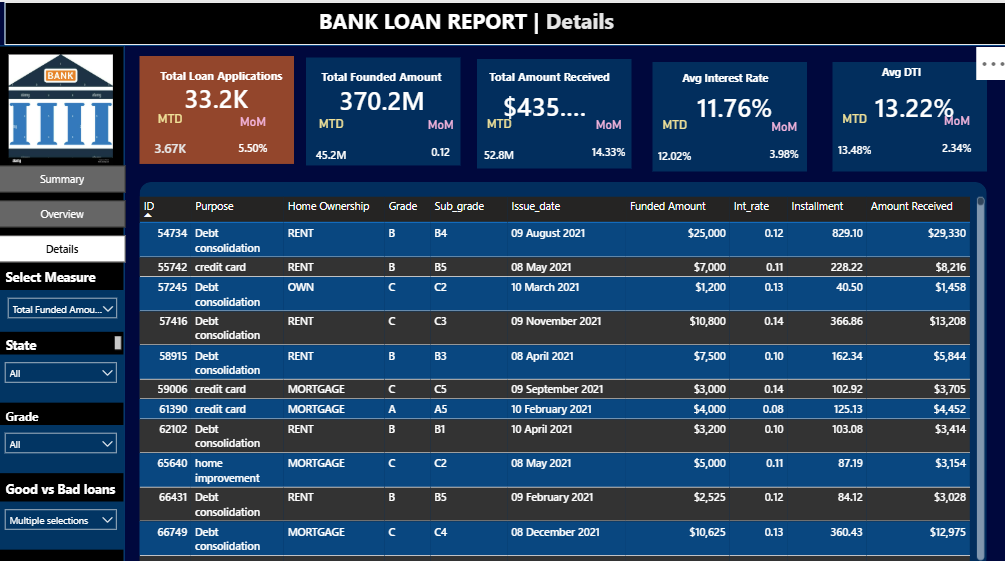

What the dashboard file says about the page in this screenshot:
{"tool":"powerbi","page":{"name":"Details","canvas":[1280,720],"ordinal":2},"visuals":[{"type":"shape","box":[0,54.8,160.6,665.2],"z":0},{"type":"shape","box":[179.8,68,194.6,136.1],"z":0,"group":"g12"},{"type":"cardVisual","fields":{"Data":["bank_loan_data.Total Funded Amount"]},"box":[395.8,69.9,181.9,104.1],"z":0,"group":"g14"},{"type":"cardVisual","fields":{"Data":["bank_loan_data.Total Loan Applications"]},"box":[181,70.1,190.8,99],"z":0,"group":"g11"},{"type":"shape","box":[825.8,75.6,194.6,138],"z":0,"group":"g2"},{"type":"shape","box":[1052.6,75.6,194.6,138],"z":0,"group":"g1"},{"type":"textbox","box":[1052.1,73.7,173.5,70.2],"z":1000,"group":"g16"},{"type":"textbox","box":[186.9,78,190.8,66],"z":1000,"group":"g9"},{"type":"textbox","box":[602.2,79.4,186.6,70.2],"z":1000,"group":"g13"},{"type":"textbox","box":[390.5,79.6,186.6,70.2],"z":1000,"group":"g7"},{"type":"textbox","box":[823.3,81.3,186.6,70.2],"z":1000,"group":"g17"},{"type":"cardVisual","title":"MTD","fields":{"Data":["bank_loan_data.MTD dti"]},"box":[1029.9,137.4,101.1,81.3],"z":1000,"group":"g3"},{"type":"cardVisual","title":"MTD","fields":{"Data":["bank_loan_data.MTD Loan Applications"]},"box":[162.5,137.9,111.1,76.4],"z":1000,"group":"g8"},{"type":"cardVisual","title":"MTD","fields":{"Data":["bank_loan_data.MTD Amount Received"]},"box":[578.3,143.1,108.7,81.3],"z":1000,"group":"g4"},{"type":"cardVisual","title":"MTD","fields":{"Data":["bank_loan_data.MTD Founded Ammount"]},"box":[366.6,143.3,108.7,81.3],"z":1000,"group":"g5"},{"type":"cardVisual","title":"MTD","fields":{"Data":["bank_loan_data.MTD Int Rate"]},"box":[799.4,145,108.7,81.3],"z":1000,"group":"g6"},{"type":"shape","box":[180,226.1,1067.6,487.7],"z":1000},{"type":"textbox","box":[4.8,330.8,186.1,31.8],"z":1000,"group":"g24"},{"type":"textbox","box":[6.4,415.1,155.9,28.6],"z":1000,"group":"g22"},{"type":"textbox","box":[4.8,505.8,155.6,35.9],"z":1000,"group":"g21"},{"type":"textbox","box":[9.5,563.1,181,70.2],"z":1000,"group":"g20"},{"type":"textbox","box":[4.8,598.1,157.2,35.1],"z":1000,"group":"g23"},{"type":"group","id":"g1","title":"Group 10","box":[1052.6,75.6,194.6,138],"z":2000},{"type":"cardVisual","title":"MoM","fields":{"Data":["bank_loan_data.MoM dti"]},"box":[1139.3,139.7,139.5,71.1],"z":2000,"group":"g3"},{"type":"cardVisual","title":"MoM","fields":{"Data":["bank_loan_data.MoM loan Applications"]},"box":[244,141.3,157.4,67.8],"z":2000,"group":"g11"},{"type":"cardVisual","title":"MoM","fields":{"Data":["bank_loan_data.MoM Amount Received"]},"box":[696,145.4,150.1,71.1],"z":2000,"group":"g4"},{"type":"cardVisual","title":"MoM","fields":{"Data":["bank_loan_data.MoM Total Founded Amount"]},"box":[484.3,145.6,150.1,71.1],"z":2000,"group":"g5"},{"type":"cardVisual","title":"MoM","fields":{"Data":["bank_loan_data.MoM Int Rate"]},"box":[917.1,147.3,150.1,71.1],"z":2000,"group":"g6"},{"type":"group","id":"g2","title":"Group 10","box":[825.8,75.6,194.6,138],"z":3000},{"type":"group","id":"g3","title":"Group 6","box":[1029.9,137.4,248.9,81.3],"z":3001,"group":"g16"},{"type":"group","id":"g4","title":"Group 6","box":[578.3,143.1,267.8,81.3],"z":3001,"group":"g13"},{"type":"group","id":"g5","title":"Group 6","box":[366.6,143.3,267.8,81.3],"z":3001,"group":"g7"},{"type":"group","id":"g6","title":"Group 6","box":[799.4,145,267.8,81.3],"z":3001,"group":"g17"},{"type":"group","id":"g7","title":"Group 7","box":[366.6,79.6,267.8,145],"z":3002,"group":"g14"},{"type":"shape","box":[604.7,71.8,194.6,138],"z":4000},{"type":"cardVisual","fields":{"Data":["bank_loan_data.Total Amount Received"]},"box":[608.5,77.5,181.4,103.9],"z":4000,"group":"g19"},{"type":"shape","box":[9.4,0,1269.9,55],"z":5000},{"type":"group","id":"g8","title":"Group 1","box":[162.5,70.1,238.9,144.2],"z":5003,"group":"g9"},{"type":"group","id":"g9","title":"Group 3","box":[162.5,70.1,238.3,144],"z":5004,"group":"g12"},{"type":"group","id":"g10","title":"Group 2","box":[181,70.1,220.4,139],"z":5004,"group":"g8"},{"type":"group","id":"g11","title":"Group 4","box":[181,70.1,220.4,139],"z":5005,"group":"g10"},{"type":"shape","box":[389.3,69.9,194.6,136.1],"z":6000},{"type":"textbox","box":[400.6,0,629.3,94.5],"z":7000},{"type":"group","id":"g12","title":"Group 5","box":[162.5,68,238.1,145.5],"z":8000},{"type":"group","id":"g13","title":"Group 7","box":[578.3,79.4,268.3,145.5],"z":8000,"group":"g19"},{"type":"group","id":"g14","title":"Group 8","box":[366.6,69.9,266.5,155],"z":9000},{"type":"group","id":"g15","title":"Group 7","box":[1029.9,73.7,249.5,145.5],"z":10000},{"type":"cardVisual","fields":{"Data":["bank_loan_data.Average Int Rate"]},"box":[839.8,84.8,181.4,90.7],"z":10000,"group":"g2"},{"type":"cardVisual","fields":{"Data":["bank_loan_data.AVG DTI"]},"box":[1066.6,84.8,181.4,90.7],"z":10000,"group":"g1"},{"type":"group","id":"g16","title":"Group 9","box":[1029.9,73.7,248.9,145],"z":10001,"group":"g15"},{"type":"group","id":"g17","title":"Group 9","box":[799.4,81.3,267.8,145],"z":10001,"group":"g18"},{"type":"group","id":"g18","title":"Group 7","box":[799.4,81.3,268.3,145.5],"z":11000},{"type":"group","id":"g19","title":"Group 11","box":[578.3,77.5,268.3,147.4],"z":12000},{"type":"slicer","fields":{"Values":["bank_loan_data.address_state"]},"box":[0,443.8,160.7,60.4],"z":13000},{"type":"group","id":"g20","title":"Group 8","box":[9.5,563.1,181.3,70],"z":14000},{"type":"group","id":"g21","title":"Group 8","box":[4.8,505.8,155.9,35],"z":15000},{"type":"slicer","fields":{"Values":["bank_loan_data.grade"]},"box":[0,532.9,160.7,60.4],"z":16000},{"type":"group","id":"g22","title":"Group 8","box":[6.4,415.1,155.9,28.6],"z":17000},{"type":"group","id":"g23","title":"Group 8","box":[4.8,598.1,157.5,35],"z":18000},{"type":"slicer","fields":{"Values":["bank_loan_data.Good vs Bad Loans"]},"box":[0,629.9,160.7,60.4],"z":19000},{"type":"slicer","fields":{"Values":["Select Measure.Select Measure"]},"box":[3.2,362.7,157.5,52.5],"z":20000},{"type":"group","id":"g24","title":"Group 8","box":[4.8,330.8,186.1,31.8],"z":21000},{"type":"tableEx","fields":{"Values":["bank_loan_data.id","bank_loan_data.purpose","bank_loan_data.home_ownership","bank_loan_data.grade","bank_loan_data.sub_grade","bank_loan_data.issue_date","bank_loan_data.Total Funded Amount","Avg(bank_loan_data.int_rate)","Sum(bank_loan_data.installment)","bank_loan_data.Total Amount Received"]},"box":[173.8,240.3,1074.7,468.2],"z":22000},{"type":"pageNavigator","box":[1.6,205.2,160.7,124.1],"z":22001},{"type":"image","box":[0,66.8,160.7,138.4],"z":22002}]}

Visuals, with their boxes in screenshot pixels (x1, y1, x2, y2), scaled from the page's 1280x720 canvas onto the 1005x561 screenshot:
shape: [x1=0, y1=43, x2=126, y2=560]
shape: [x1=141, y1=53, x2=294, y2=159]
cardVisual - bank_loan_data.Total Funded Amount: [x1=311, y1=54, x2=454, y2=136]
cardVisual - bank_loan_data.Total Loan Applications: [x1=142, y1=55, x2=292, y2=132]
shape: [x1=648, y1=59, x2=801, y2=166]
shape: [x1=826, y1=59, x2=979, y2=166]
textbox: [x1=826, y1=57, x2=962, y2=112]
textbox: [x1=147, y1=61, x2=297, y2=112]
textbox: [x1=473, y1=62, x2=619, y2=117]
textbox: [x1=307, y1=62, x2=453, y2=117]
textbox: [x1=646, y1=63, x2=793, y2=118]
"MTD" cardVisual: [x1=809, y1=107, x2=888, y2=170]
"MTD" cardVisual: [x1=128, y1=107, x2=215, y2=167]
"MTD" cardVisual: [x1=454, y1=111, x2=539, y2=175]
"MTD" cardVisual: [x1=288, y1=112, x2=373, y2=175]
"MTD" cardVisual: [x1=628, y1=113, x2=713, y2=176]
shape: [x1=141, y1=176, x2=980, y2=556]
textbox: [x1=4, y1=258, x2=150, y2=283]
textbox: [x1=5, y1=323, x2=127, y2=346]
textbox: [x1=4, y1=394, x2=126, y2=422]
textbox: [x1=7, y1=439, x2=150, y2=493]
textbox: [x1=4, y1=466, x2=127, y2=493]
"Group 10" group: [x1=826, y1=59, x2=979, y2=166]
"MoM" cardVisual: [x1=895, y1=109, x2=1004, y2=164]
"MoM" cardVisual: [x1=192, y1=110, x2=315, y2=163]
"MoM" cardVisual: [x1=546, y1=113, x2=664, y2=169]
"MoM" cardVisual: [x1=380, y1=113, x2=498, y2=169]
"MoM" cardVisual: [x1=720, y1=115, x2=838, y2=170]
"Group 10" group: [x1=648, y1=59, x2=801, y2=166]
"Group 6" group: [x1=809, y1=107, x2=1004, y2=170]
"Group 6" group: [x1=454, y1=111, x2=664, y2=175]
"Group 6" group: [x1=288, y1=112, x2=498, y2=175]
"Group 6" group: [x1=628, y1=113, x2=838, y2=176]
"Group 7" group: [x1=288, y1=62, x2=498, y2=175]
shape: [x1=475, y1=56, x2=628, y2=163]
cardVisual - bank_loan_data.Total Amount Received: [x1=478, y1=60, x2=620, y2=141]
shape: [x1=7, y1=0, x2=1004, y2=43]
"Group 1" group: [x1=128, y1=55, x2=315, y2=167]
"Group 3" group: [x1=128, y1=55, x2=315, y2=167]
"Group 2" group: [x1=142, y1=55, x2=315, y2=163]
"Group 4" group: [x1=142, y1=55, x2=315, y2=163]
shape: [x1=306, y1=54, x2=458, y2=161]
textbox: [x1=315, y1=0, x2=809, y2=74]
"Group 5" group: [x1=128, y1=53, x2=315, y2=166]
"Group 7" group: [x1=454, y1=62, x2=665, y2=175]
"Group 8" group: [x1=288, y1=54, x2=497, y2=175]
"Group 7" group: [x1=809, y1=57, x2=1004, y2=171]
cardVisual - bank_loan_data.Average Int Rate: [x1=659, y1=66, x2=802, y2=137]
cardVisual - bank_loan_data.AVG DTI: [x1=837, y1=66, x2=980, y2=137]
"Group 9" group: [x1=809, y1=57, x2=1004, y2=170]
"Group 9" group: [x1=628, y1=63, x2=838, y2=176]
"Group 7" group: [x1=628, y1=63, x2=838, y2=177]
"Group 11" group: [x1=454, y1=60, x2=665, y2=175]
slicer - bank_loan_data.address_state: [x1=0, y1=346, x2=126, y2=393]
"Group 8" group: [x1=7, y1=439, x2=150, y2=493]
"Group 8" group: [x1=4, y1=394, x2=126, y2=421]
slicer - bank_loan_data.grade: [x1=0, y1=415, x2=126, y2=462]
"Group 8" group: [x1=5, y1=323, x2=127, y2=346]
"Group 8" group: [x1=4, y1=466, x2=127, y2=493]
slicer - bank_loan_data.Good vs Bad Loans: [x1=0, y1=491, x2=126, y2=538]
slicer - Select Measure.Select Measure: [x1=3, y1=283, x2=126, y2=324]
"Group 8" group: [x1=4, y1=258, x2=150, y2=283]
tableEx - bank_loan_data.id x bank_loan_data.purpose: [x1=136, y1=187, x2=980, y2=552]
pageNavigator: [x1=1, y1=160, x2=127, y2=257]
image: [x1=0, y1=52, x2=126, y2=160]
